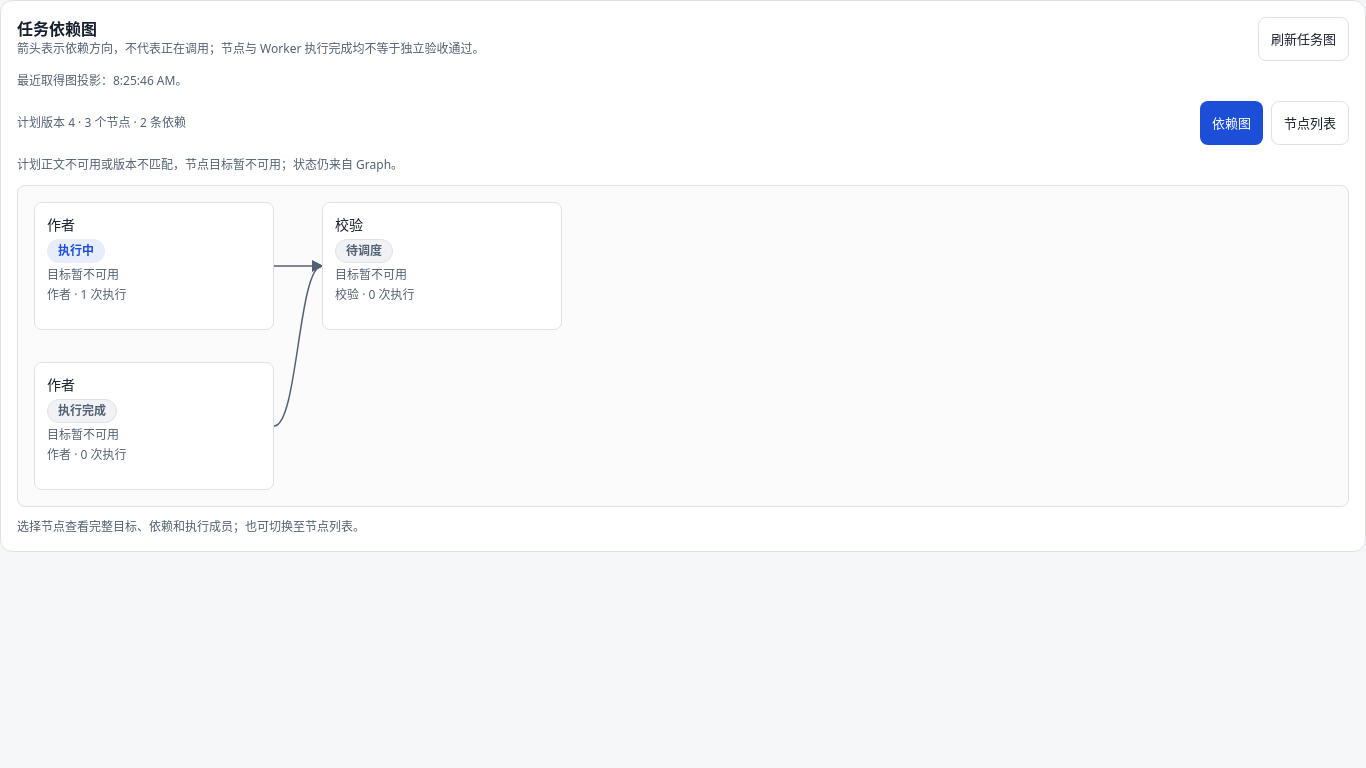
Test case: 任务图读取/恢复 › 拒绝较低planRevision而保留已见新图
This screenshot has width=1366, height=768.
Expected: the button with aria-label "查看节点 east，作者，执行中" is shown, [34,202,274,330]
Step 1. Click the button "刷新任务图" → (1304, 39), box [1258,17,1349,61]
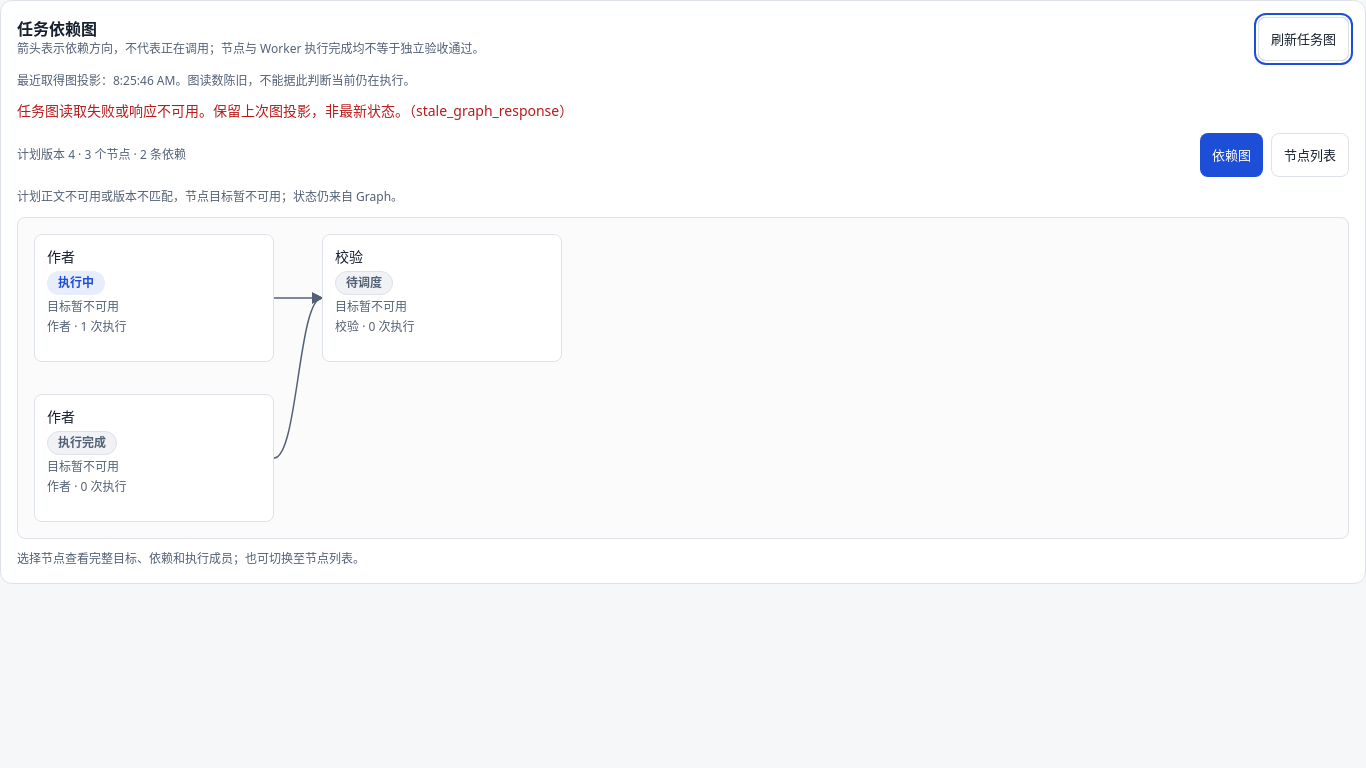
Expected: the text "计划版本 4 · 3 个节点 · 2 条依赖" is shown, [17,147,186,163]
Result: the message "任务图读取失败或响应不可用。保留上次图投影，非最新状态。（stale_graph_response）" is shown at [17,101,573,120]
